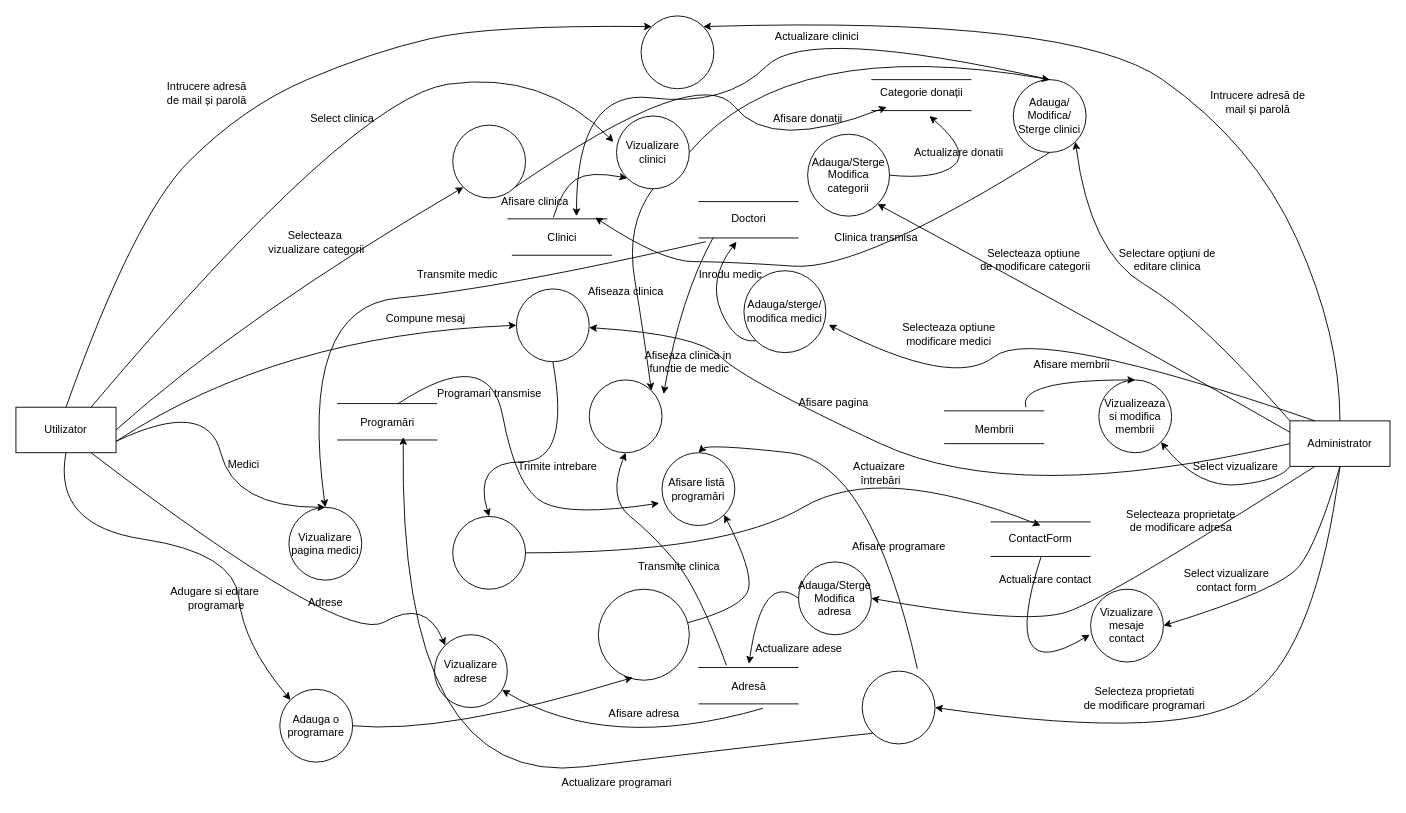
Image size: 1406x813. Some labels were removed from this diagram. The shapes that lost their labels are listed below. From the top down, each one's centre as x and y in pixels, then its label:
(x=677, y=52): Autentificare
(x=489, y=161): Vizualizare categorii
(x=552, y=325): Accesează pagină contact
(x=625, y=416): Caută clinică
(x=489, y=552): Pune o întrebare
(x=643, y=634): Modifica/Sterge progrmare
(x=898, y=707): Adauga/Sterge Modifica programari
